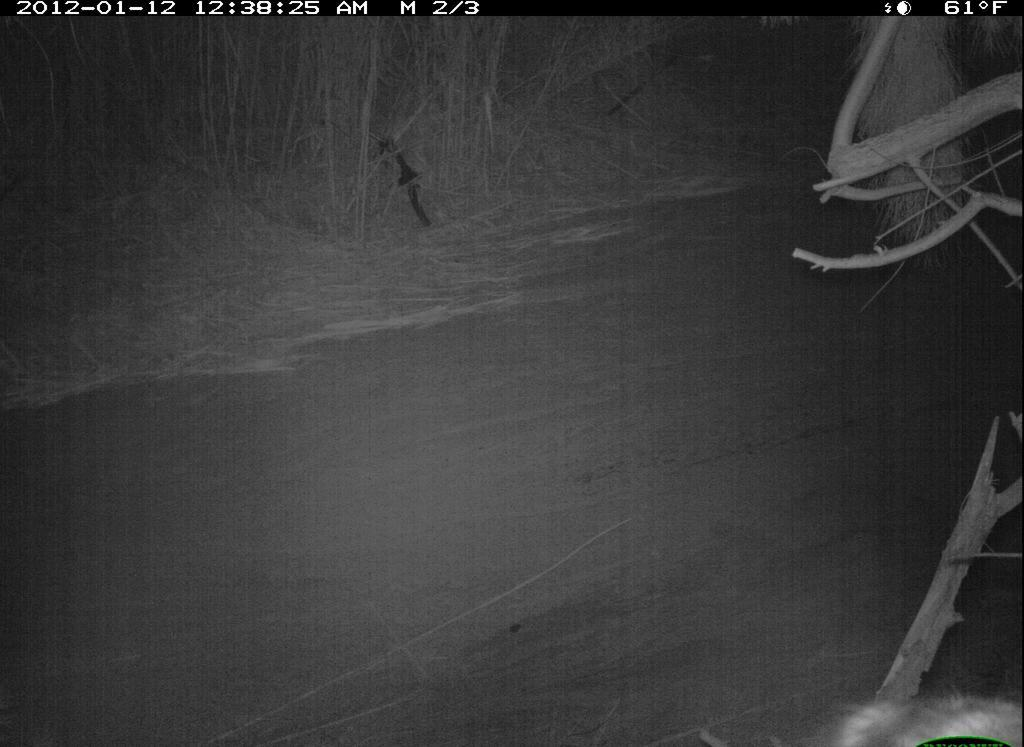raccoon: (801, 685, 1021, 747)
